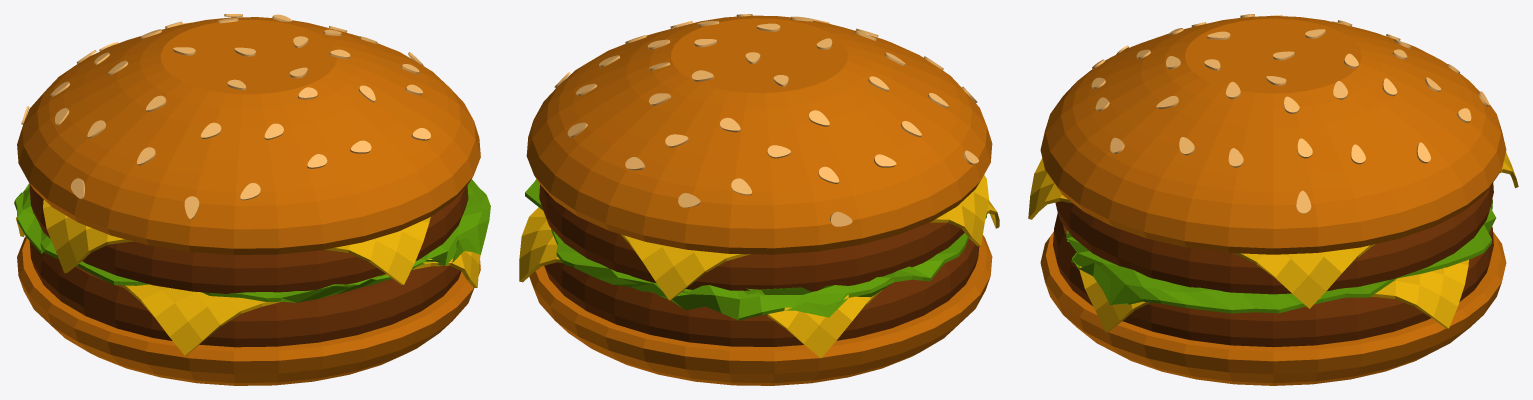
The model's file is burger.glb.
3 renders of one model, left to right at view 1: azimuth 30°, elevation 25°; view 2: azimuth 150°, elevation 25°; view 3: azimuth 270°, elevation 25°, orthographic.
Parts seen in each view (by area): view 1: Circle.004, Circle, Circle.001, Circle.003, Circle.002, Plane, Plane.001; view 2: Circle.004, Circle, Circle.001, Circle.003, Circle.002, Plane, Plane.001; view 3: Circle.004, Circle, Circle.003, Circle.001, Circle.002, Plane.001, Plane.
Part boxes in pixels (x1,y1,x2,y2): Circle.004: (17, 17, 480, 254); Circle: (17, 236, 480, 385); Circle.001: (29, 241, 461, 347); Circle.003: (29, 184, 468, 293); Circle.002: (14, 179, 490, 302); Plane: (16, 216, 480, 355); Plane.001: (43, 199, 430, 284); Circle.004: (526, 15, 992, 254); Circle: (529, 235, 992, 385); Circle.001: (544, 238, 979, 346); Circle.003: (539, 184, 964, 291); Circle.002: (525, 179, 986, 320); Plane: (519, 201, 999, 357); Plane.001: (621, 175, 989, 300); Circle.004: (1040, 16, 1506, 254); Circle: (1040, 231, 1506, 385); Circle.003: (1055, 182, 1493, 294); Circle.001: (1053, 212, 1493, 347); Circle.002: (1066, 199, 1496, 313); Plane.001: (1028, 152, 1518, 308); Plane: (1079, 259, 1468, 332).
Bounding box in the file's own units: 0.3086 × 0.1863 × 0.3195.
